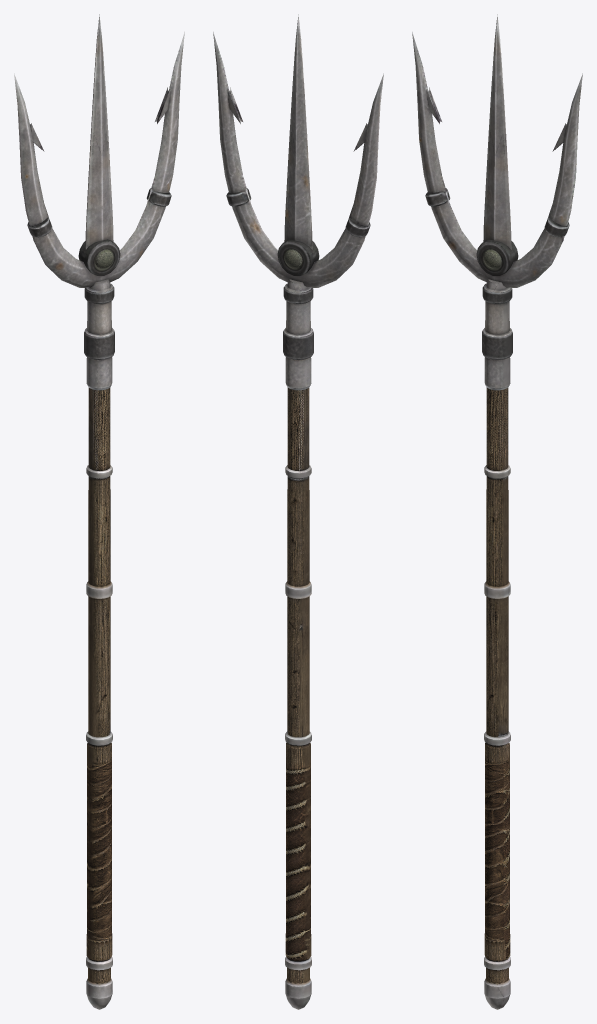
The model's file is w_trident_t1.glb.
3 renders of one model, left to right at view 1: azimuth 30°, elevation 25°; view 2: azimuth 150°, elevation 25°; view 3: azimuth 330°, elevation 25°, orthographic.
Parts seen in each view (by area): view 1: w_trident; view 2: w_trident; view 3: w_trident.
Boxes of the visible parts, left/top/right/bottom form: w_trident: left=14, top=14, right=184, bottom=1009; w_trident: left=213, top=14, right=383, bottom=1009; w_trident: left=412, top=14, right=582, bottom=1009.
Bounding box in the file's own units: 21.2 × 118 × 3.24.
Materials: 1 (1 with a texture image).
